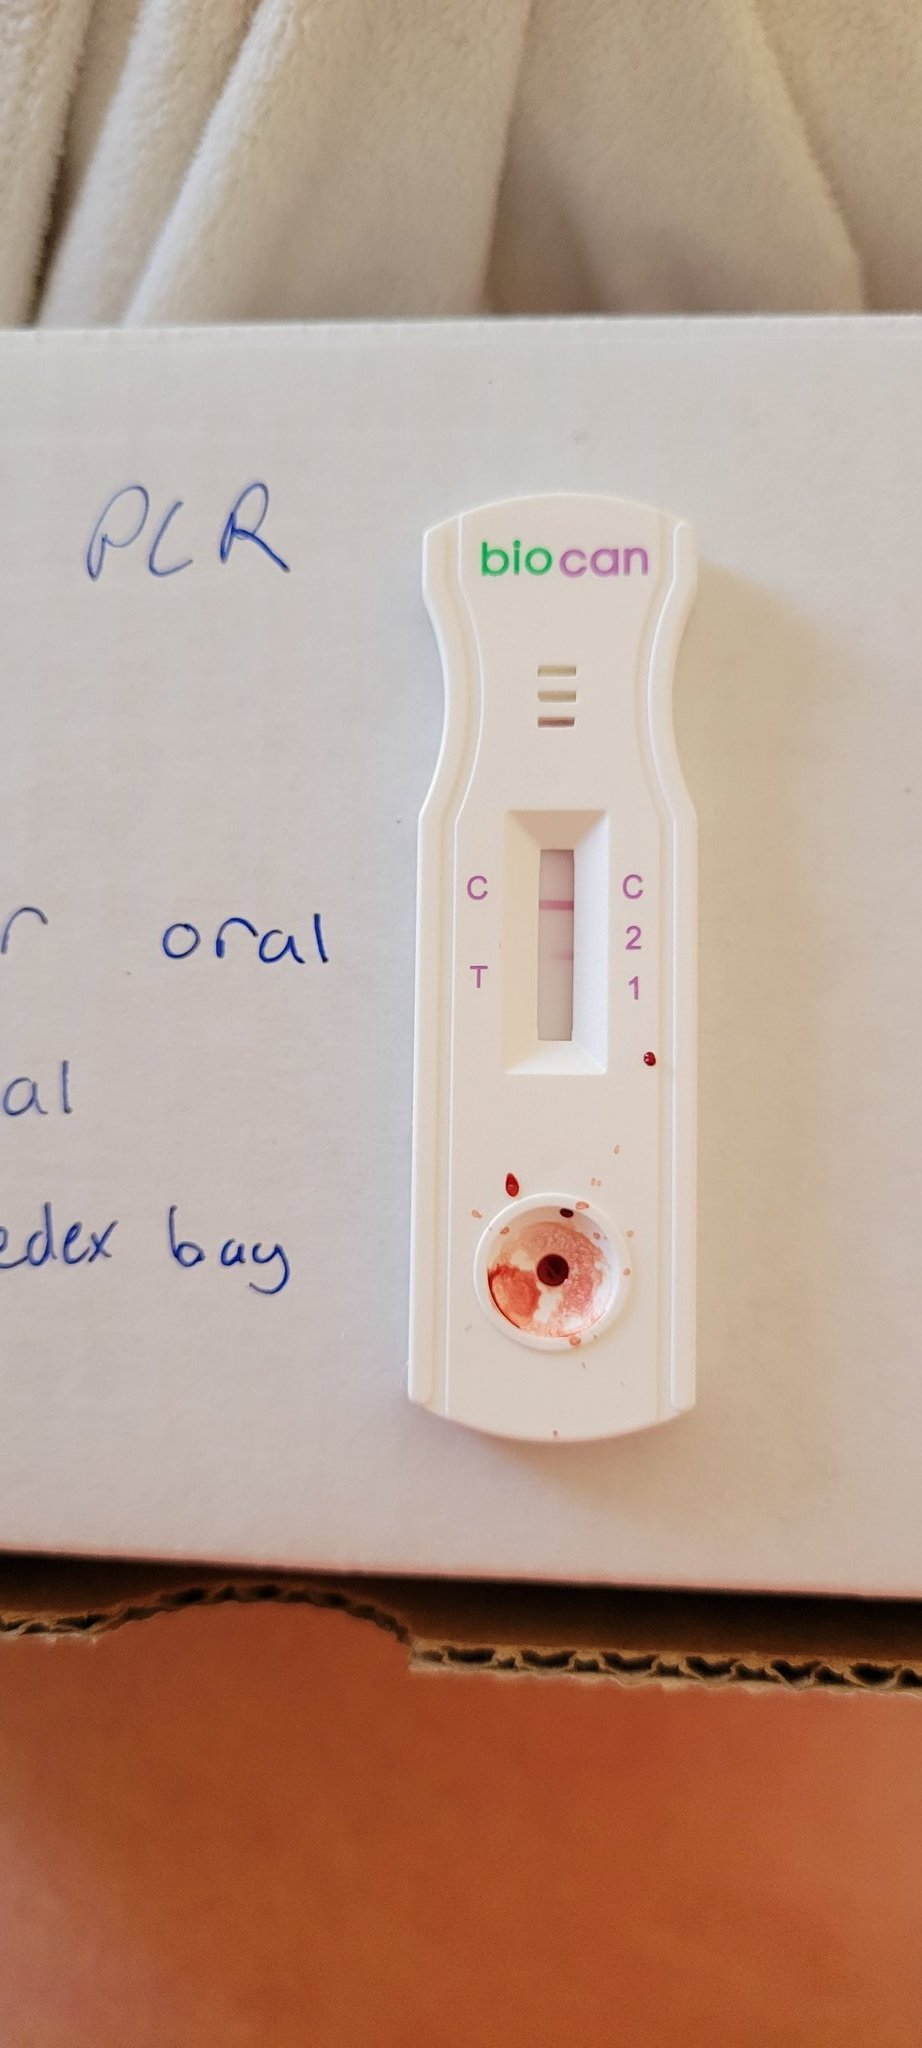positive: (518, 824, 597, 1059)
